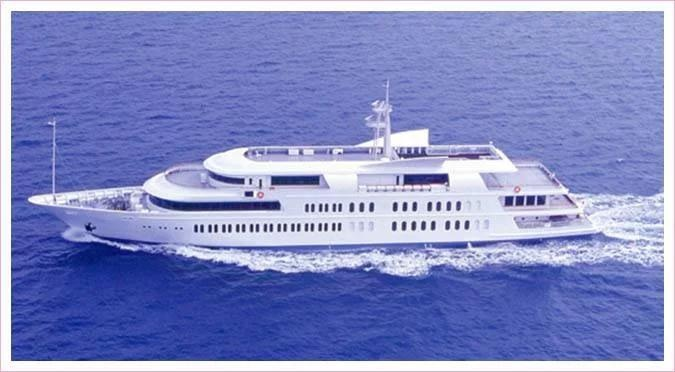yacht: (31, 127, 591, 243)
